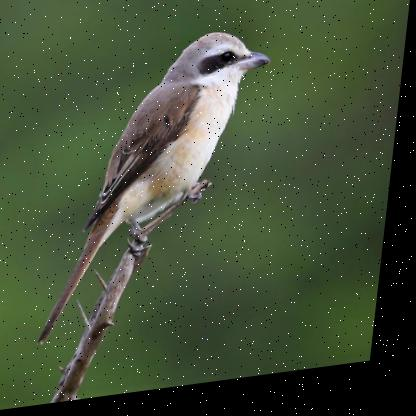Burung: (45, 33, 278, 347)
